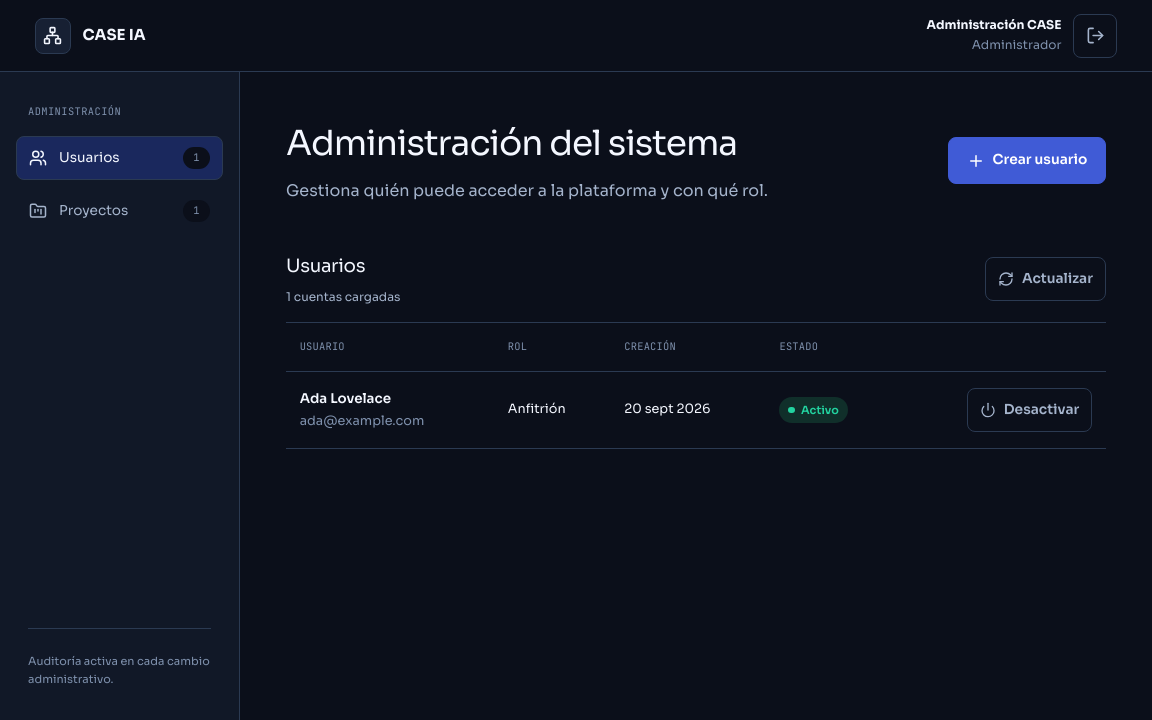
Test: rutas públicas de la plataforma CASE › muestra usuarios y proyectos reales del servicio administrativo
expect the text "Ada Lovelace" is shown: met, box [300,390,391,407]
Click the button "Proyectos 1".
click(120, 211)  # box [16,188,223,233]
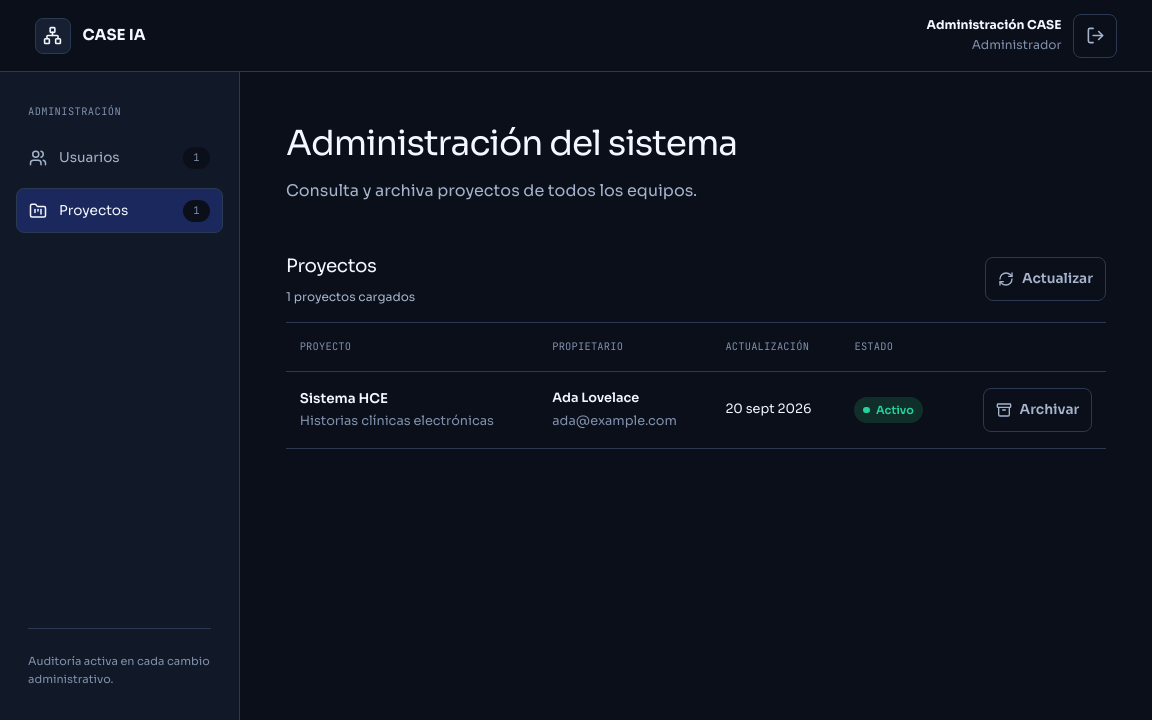
expect the text "Sistema HCE" is shown: met, box [300,390,388,407]
